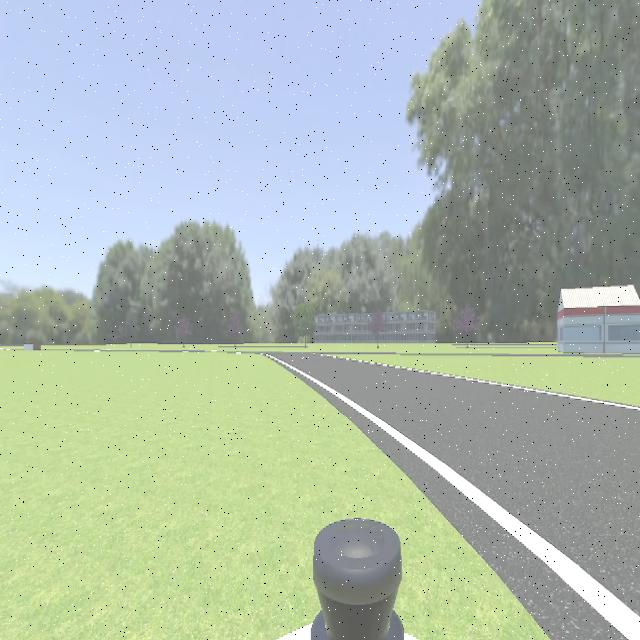road: (296, 361, 640, 615)
solid_line: (277, 359, 640, 640), (335, 357, 640, 412)
